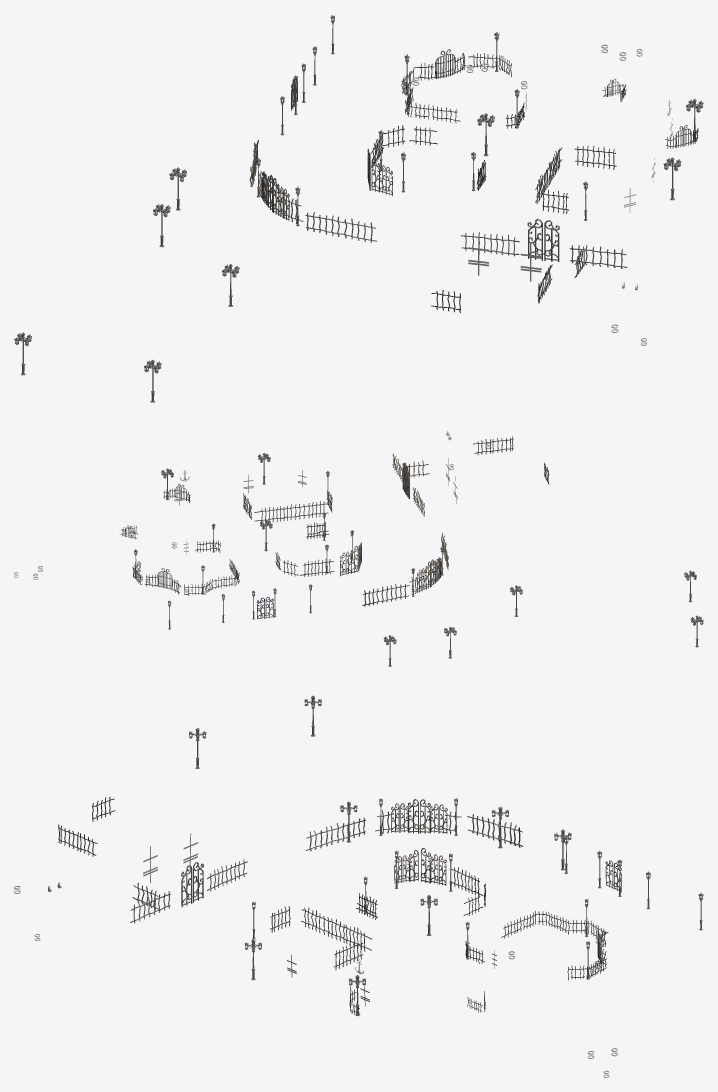
Rendered from MSH_ENV_SquareArena_Metal.FBX.
3 views of the same model, one above another, from view 1: azimuth 30°, elevation 25°; view 2: azimuth 150°, elevation 25°; view 3: azimuth 270°, elevation 25° (orthographic). The views are drawn at different scales.
Visible parts, largest first — view 1: ENV_SquareArena_Metal; view 2: ENV_SquareArena_Metal; view 3: ENV_SquareArena_Metal.
Boxes of the visible parts, x1,y1,x2,y2 form: ENV_SquareArena_Metal: [14, 15, 703, 402]; ENV_SquareArena_Metal: [14, 431, 703, 666]; ENV_SquareArena_Metal: [14, 695, 703, 1077].
Size of the model in its own units: 76.64 by 9.04 by 61.34.
